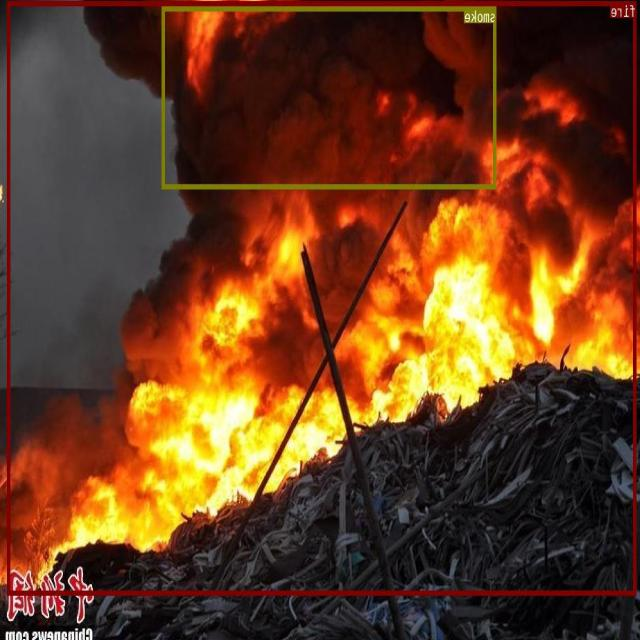fire: (8, 0, 637, 594)
smoke: (163, 6, 497, 188)
